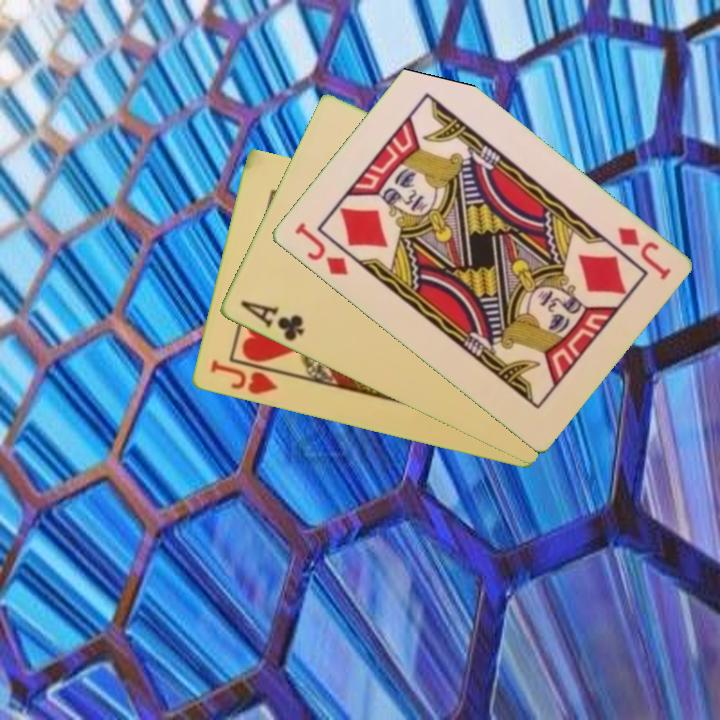Ac: (236, 297, 307, 345)
Jd: (290, 218, 351, 279), (613, 223, 674, 283)
Jh: (206, 356, 289, 398)
